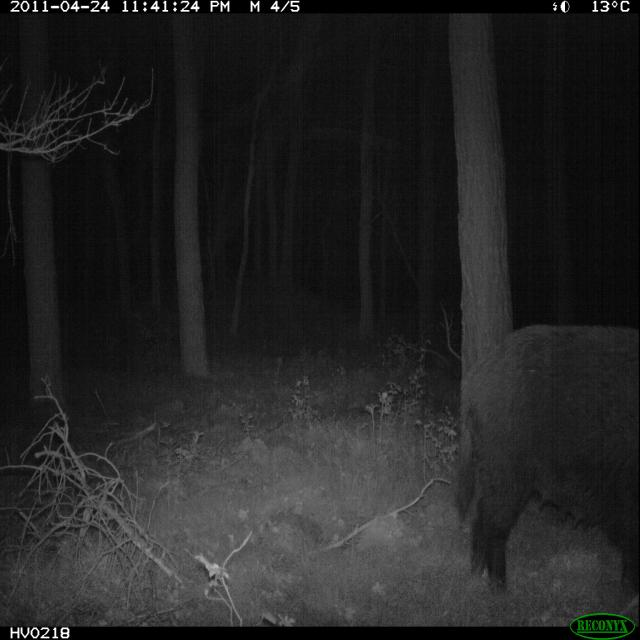boar: (448, 292, 640, 621)
